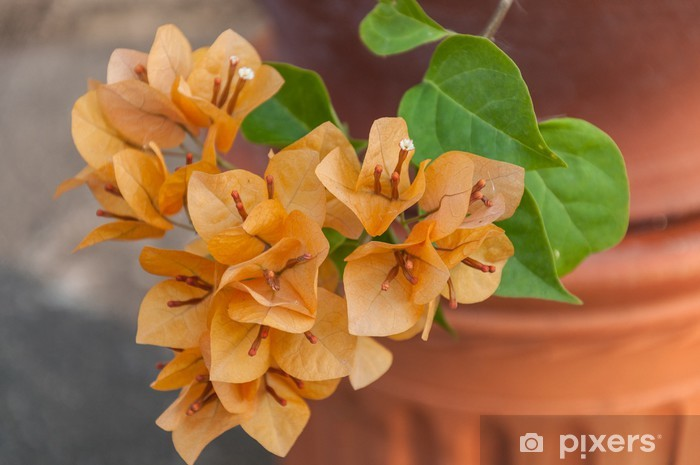rose: (12, 2, 568, 465), (280, 107, 522, 362)
